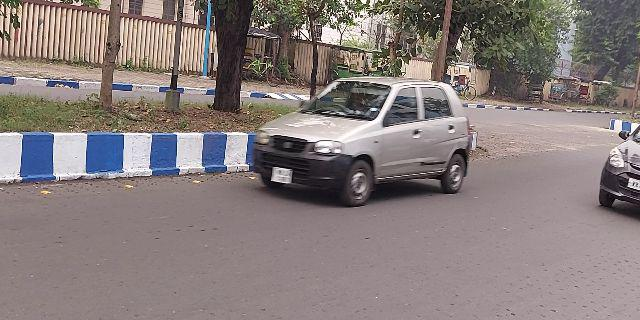Car: (247, 69, 480, 211), (594, 113, 640, 216)
